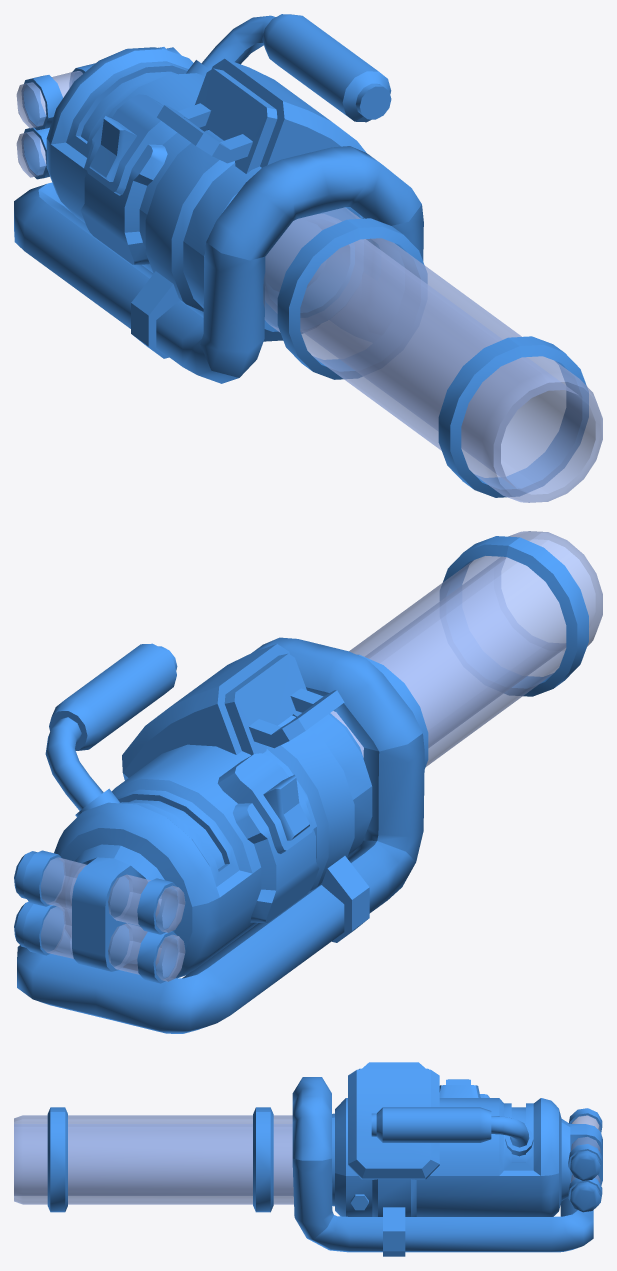
The model's file is obj_interactive_mountableglowgun.fbx.
The picture shows the model from 3 angles, top to bottom: view 1: azimuth 30°, elevation 25°; view 2: azimuth 150°, elevation 25°; view 3: azimuth 270°, elevation 25°; orthographic projection. The views are drawn at different scales.
Visible parts, largest first — view 1: part2_lp.003; view 2: part2_lp.003; view 3: part2_lp.003.
Part boxes in pixels (x1,y1,x2,y2): part2_lp.003: (14,14,602,502); part2_lp.003: (14,531,602,1033); part2_lp.003: (14,1062,602,1256).
Size of the model in its own units: 1.2 by 1.19 by 3.98.
